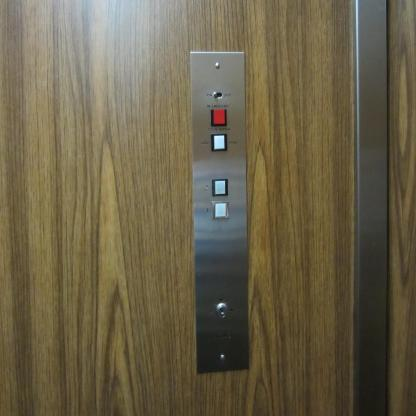empty: (210, 199, 230, 221), (210, 178, 230, 196), (210, 133, 228, 151), (210, 108, 228, 126)
keyhole: (214, 301, 229, 319)
switch: (213, 90, 223, 100)
